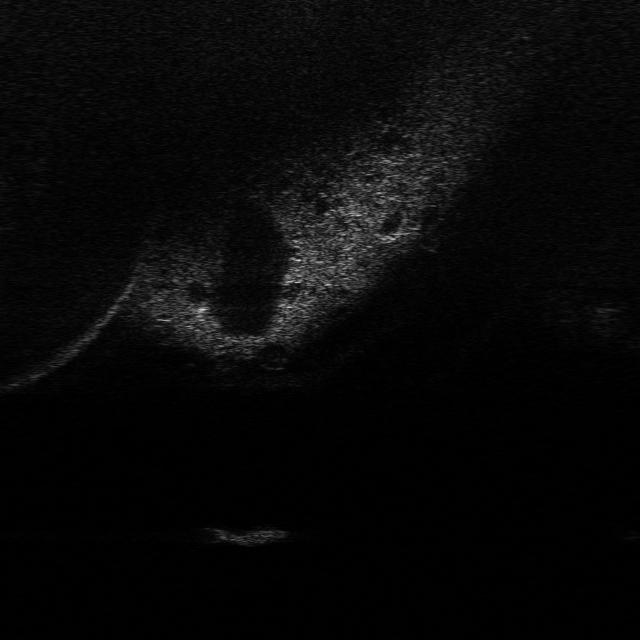cube: (208, 516, 286, 548)
